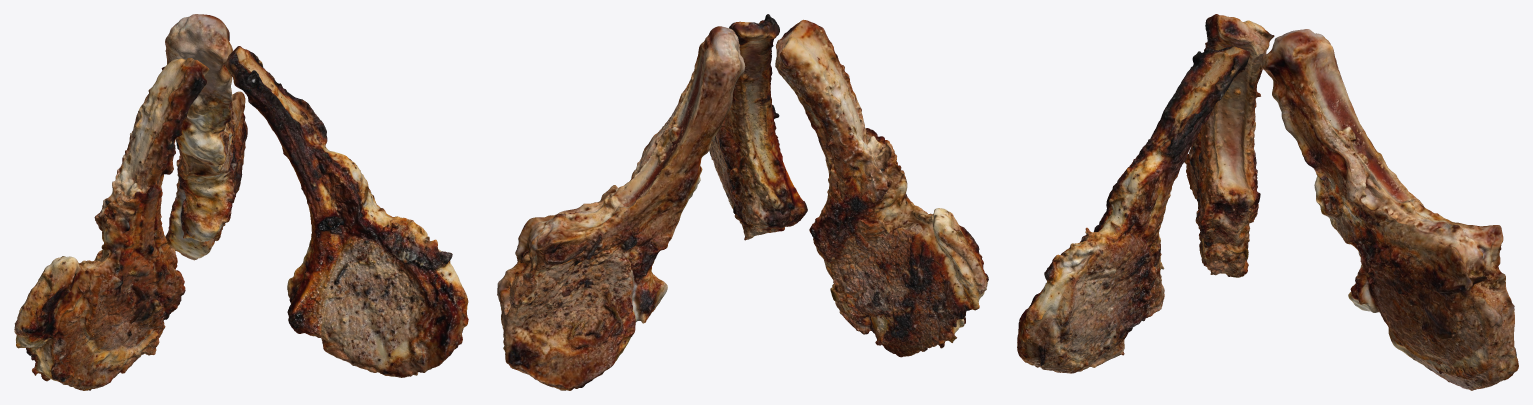
Rendered from costeletas-de-cordeiro-mobile.glb.
3 renders of one model, left to right at view 1: azimuth 30°, elevation 25°; view 2: azimuth 150°, elevation 25°; view 3: azimuth 270°, elevation 25°, orthographic. The views are drawn at different scales.
Parts seen in each view (by area): view 1: Object_4, Object_6, Object_7, Object_2, Object_5, Object_3; view 2: Object_2, Object_6, Object_3, Object_4, Object_7, Object_5; view 3: Object_2, Object_4, Object_3, Object_6, Object_5, Object_7.
Part boxes in pixels (x1=…): Object_4: x1=225, y1=46, x2=468, y2=369; Object_6: x1=14, y1=58, x2=209, y2=388; Object_7: x1=22, y1=110, x2=181, y2=390; Object_2: x1=165, y1=14, x2=247, y2=260; Object_5: x1=247, y1=61, x2=468, y2=377; Object_3: x1=168, y1=27, x2=245, y2=259; Object_2: x1=497, y1=26, x2=745, y2=390; Object_6: x1=775, y1=19, x2=988, y2=355; Object_3: x1=497, y1=33, x2=739, y2=360; Object_4: x1=709, y1=14, x2=807, y2=240; Object_7: x1=775, y1=60, x2=980, y2=357; Object_5: x1=710, y1=15, x2=792, y2=238; Object_2: x1=1273, y1=29, x2=1518, y2=390; Object_4: x1=1017, y1=46, x2=1250, y2=373; Object_3: x1=1260, y1=45, x2=1516, y2=388; Object_6: x1=1184, y1=14, x2=1274, y2=276; Object_5: x1=1018, y1=54, x2=1226, y2=372; Object_7: x1=1186, y1=48, x2=1266, y2=277.
Bounding box in the file's own units: 0.237 × 0.1967 × 0.2787.
Materials: 3 (3 with a texture image).
